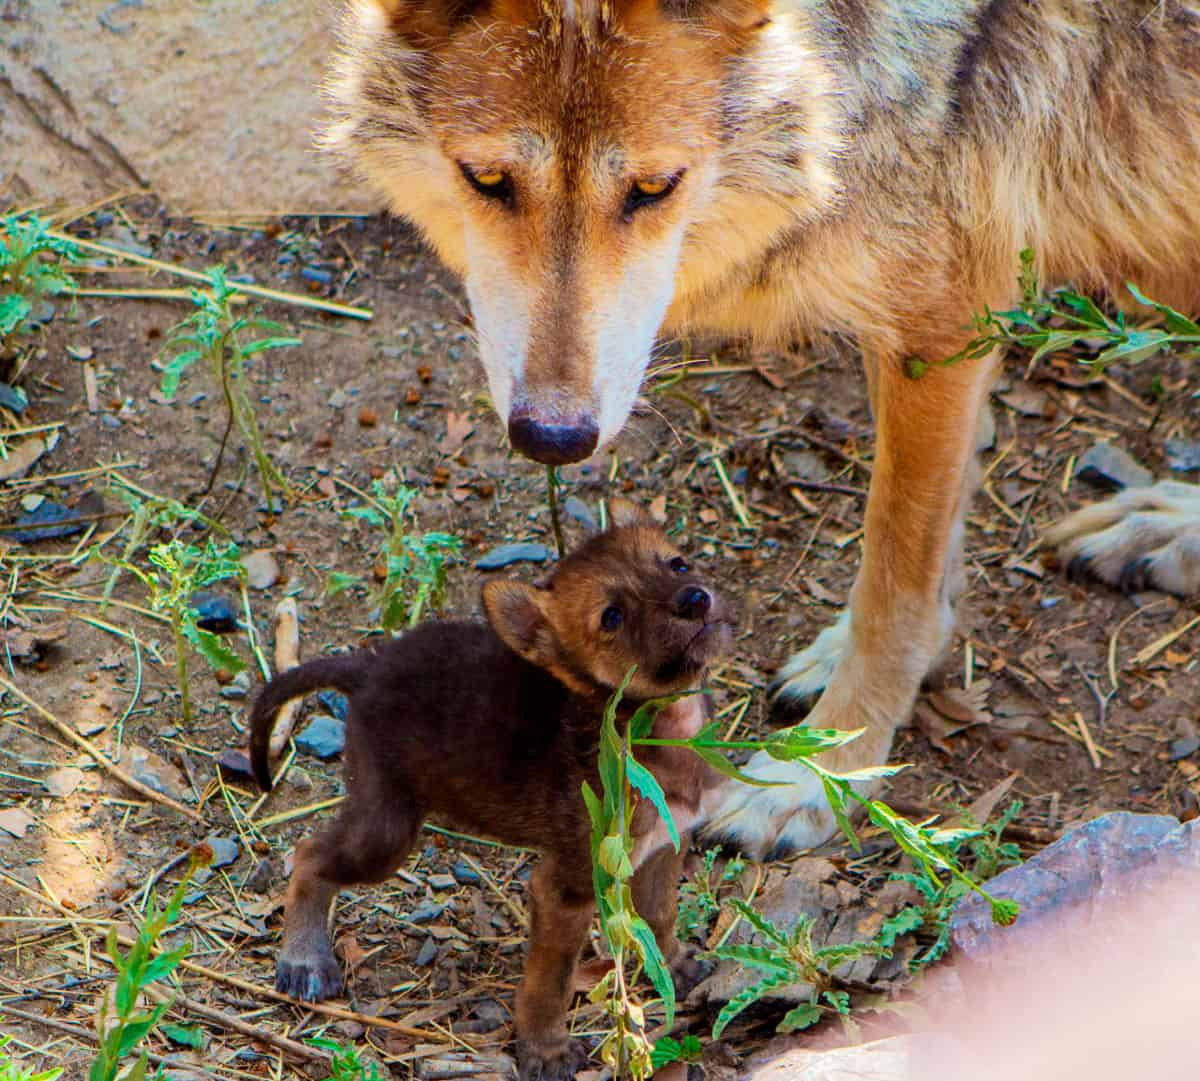Lobo: (210, 2, 1143, 511), (242, 505, 800, 937)
